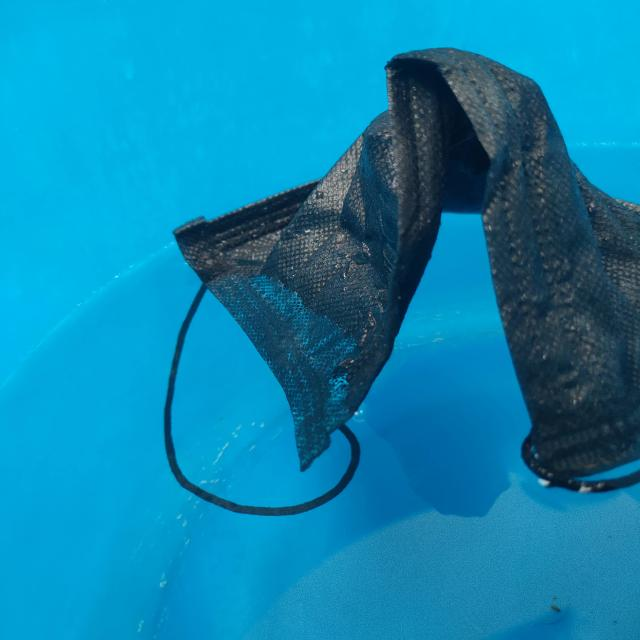litter: (150, 32, 640, 522)
